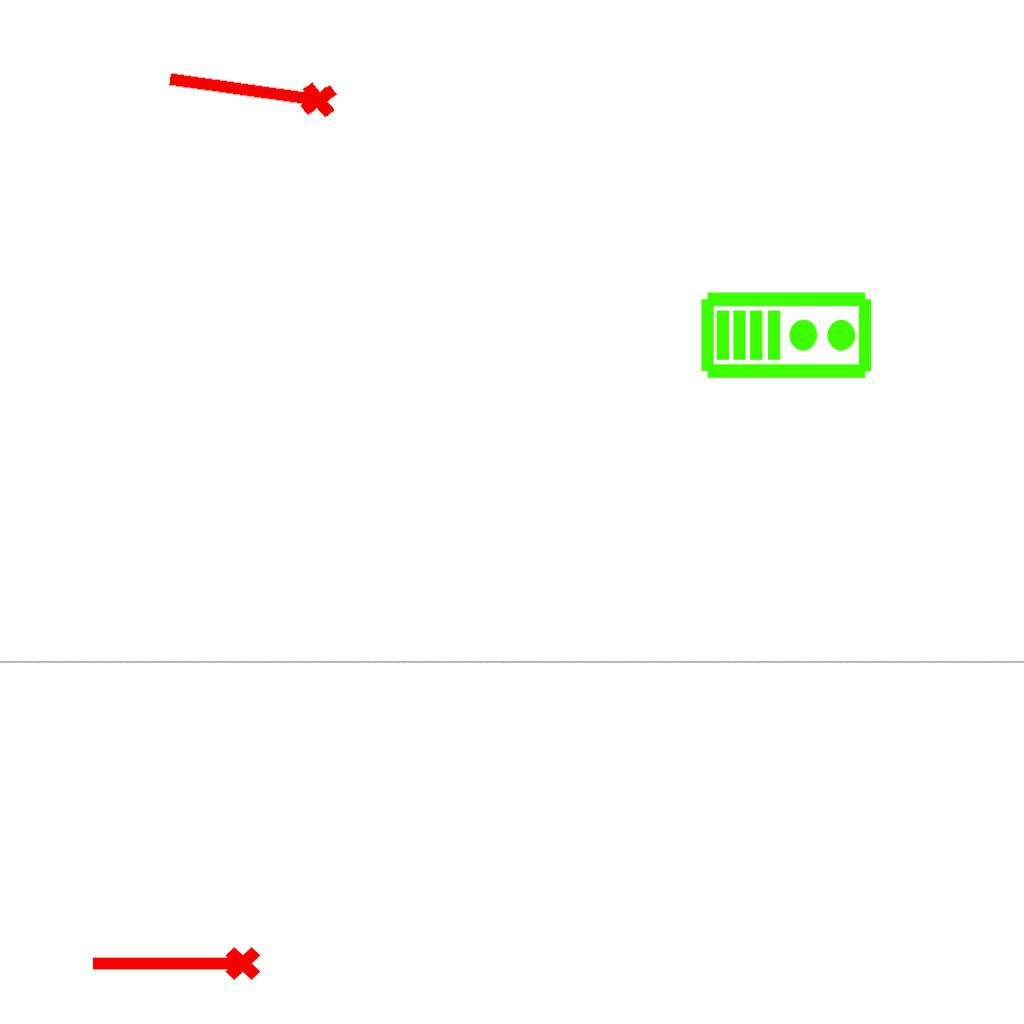ASR_Ansaugoeffnung: (160, 57, 342, 129), (87, 943, 263, 989)
Gegensprechanlage_mit_Video: (699, 286, 875, 381)
